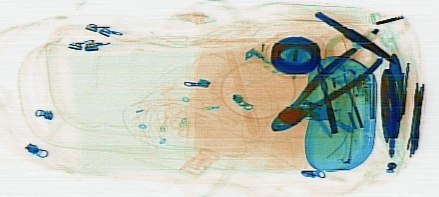knife: (312, 7, 396, 63)
